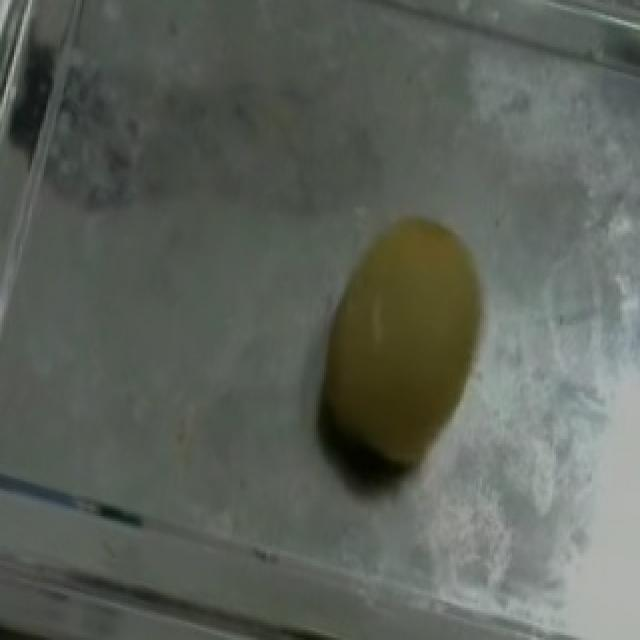Fruit: (276, 191, 524, 506)
